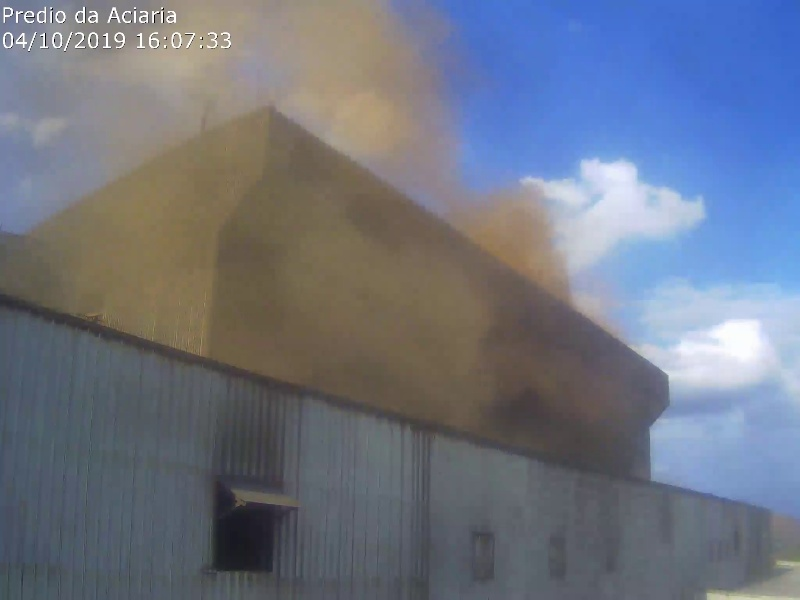pessimo: (96, 4, 628, 509)
